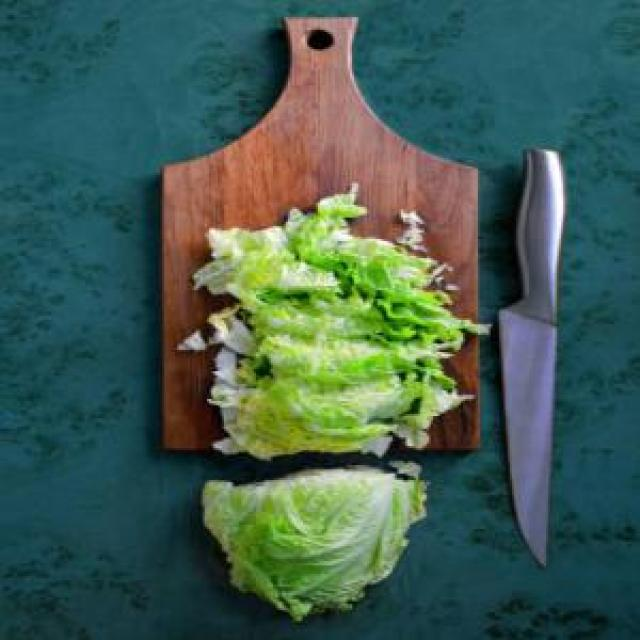knife: (495, 149, 594, 575)
